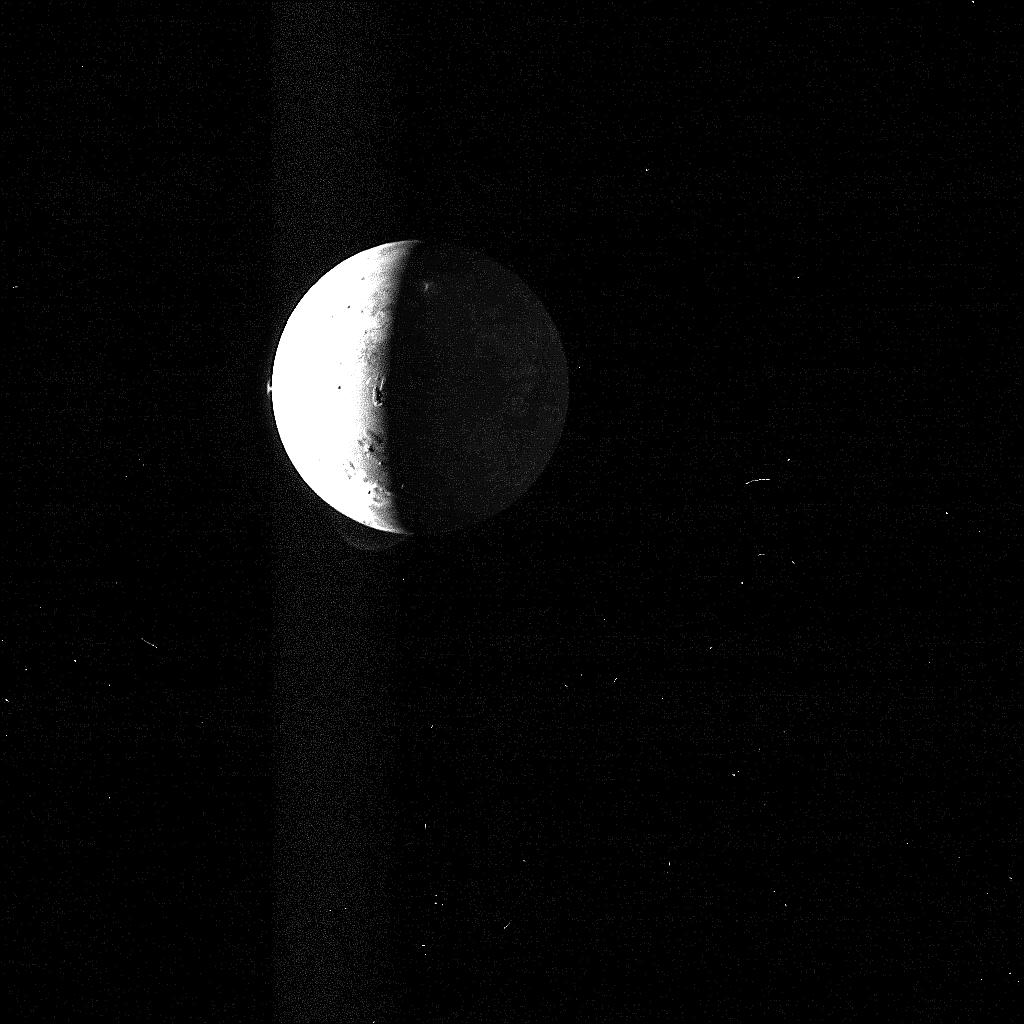plumes: (324, 506, 410, 554), (267, 379, 272, 397)
